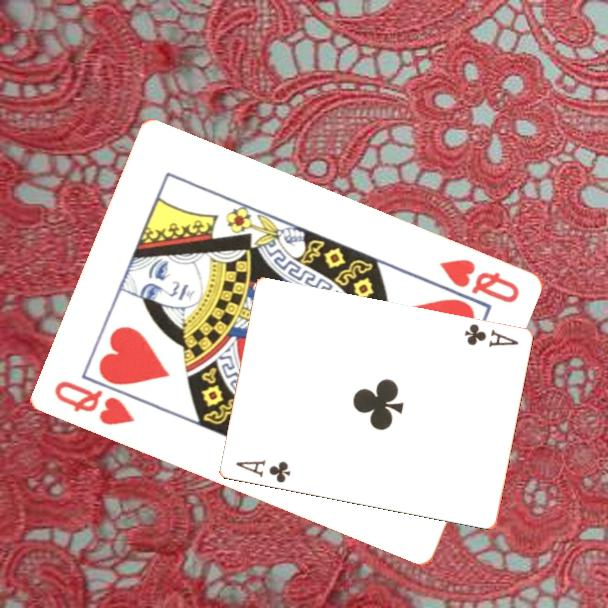c01: (460, 320, 521, 350), (232, 457, 293, 486)
h12: (51, 377, 139, 428), (436, 255, 523, 306)
